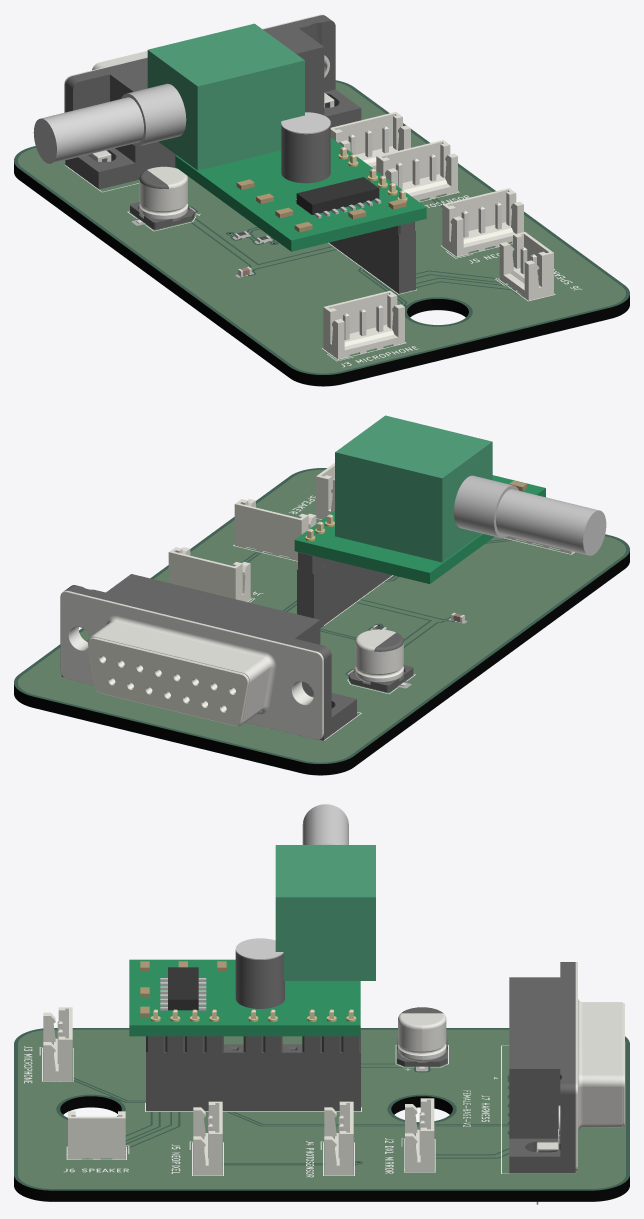
The model's file is female-base-v2.glb.
3 views of the same model, one above another, from view 1: azimuth 30°, elevation 25°; view 2: azimuth 150°, elevation 25°; view 3: azimuth 270°, elevation 25° (orthographic).
Visible parts, largest first — view 1: female-base-v2_visual_layers_4, M1.001, female-base-v2_visual_layers_2, J7, female-base-v2_visual_layers_1, J3, J5, J4, M1, C1, J6, J2 (+1 smaller); view 2: female-base-v2_visual_layers_4, female-base-v2_visual_layers_2, J7, M1.001, female-base-v2_visual_layers_1, M1, J5, C1, J4, J6, M1.002, female-base-v2_visual_layers_7; view 3: female-base-v2_visual_layers_4, female-base-v2_visual_layers_2, M1.001, J7, M1, female-base-v2_visual_layers_1, C1, J6, female-base-v2_visual_layers_7, J3, J2, J4 (+5 smaller).
Boxes of the visible parts, x1,y1,x2,y2 form: female-base-v2_visual_layers_4: (14,80,629,374); M1.001: (33,23,426,251); female-base-v2_visual_layers_2: (18,83,625,372); J7: (64,14,361,189); female-base-v2_visual_layers_1: (14,81,629,386); J3: (323,290,404,359); J5: (442,188,523,256); J4: (376,140,457,201); M1: (329,228,415,293); C1: (130,166,194,229); J6: (499,232,553,300); J2: (330,112,410,170); female-base-v2_visual_layers_4: (14,468,629,763); female-base-v2_visual_layers_2: (18,470,625,761); J7: (60,574,356,740); M1.001: (294,415,606,583); female-base-v2_visual_layers_1: (14,468,629,775); M1: (297,560,392,627); J5: (234,499,316,560); C1: (348,629,413,692); J4: (168,547,250,601); J6: (316,463,334,519); M1.002: (298,514,333,573); female-base-v2_visual_layers_7: (233,495,574,740); female-base-v2_visual_layers_4: (14,1028,629,1190); female-base-v2_visual_layers_2: (18,1030,625,1188); M1.001: (129,804,375,1036); J7: (509,962,624,1204); M1: (146,1044,360,1111); female-base-v2_visual_layers_1: (14,1028,629,1201); C1: (397,1007,447,1069); J6: (68,1111,125,1159); female-base-v2_visual_layers_7: (24,1045,575,1177); J3: (43,1007,72,1081); J2: (405,1098,434,1172); J4: (324,1101,353,1175).
Size of the model in its own units: 0.066 by 0.033 by 0.08.
